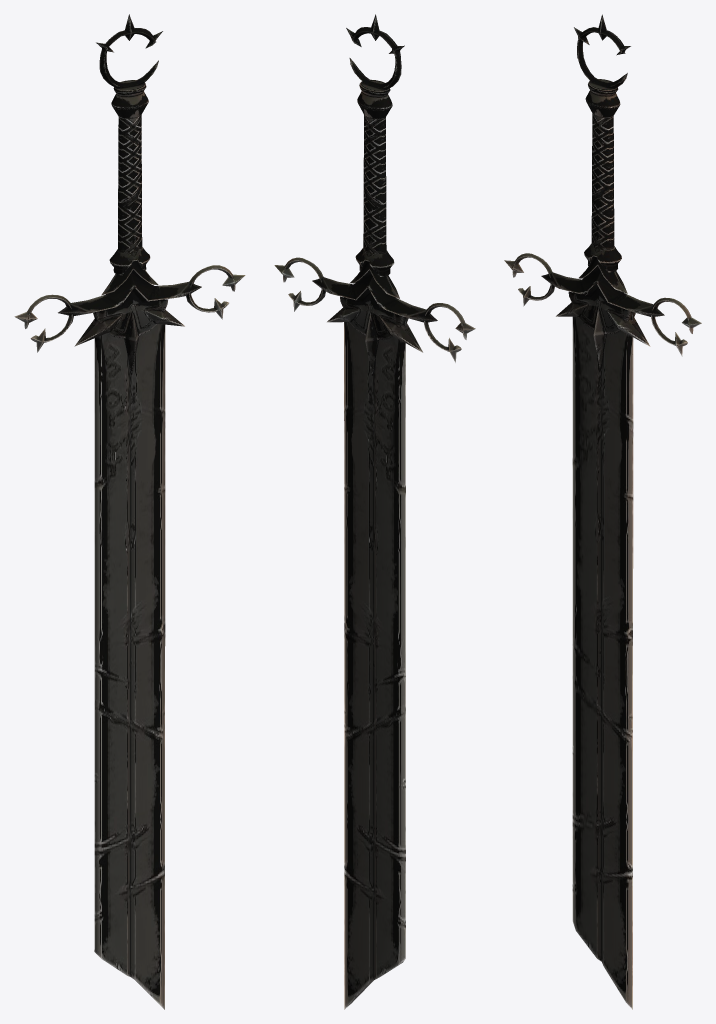
File: sword.glb
3 views of the same model, side by side, from view 1: azimuth 30°, elevation 25°; view 2: azimuth 150°, elevation 25°; view 3: azimuth 330°, elevation 25° (orthographic).
Parts seen in each view (by area): view 1: Object_2, Object_3; view 2: Object_2, Object_3; view 3: Object_2, Object_3.
Boxes of the visible parts, <box> form: Object_2: <box>94,286,165,1009</box>; Object_3: <box>14,14,245,374</box>; Object_2: <box>344,293,405,1009</box>; Object_3: <box>274,14,475,375</box>; Object_2: <box>572,288,633,1009</box>; Object_3: <box>504,14,701,368</box>.
Bounding box in the file's own units: 151 × 670 × 22.85.
Materials: 2 (2 with a texture image).
